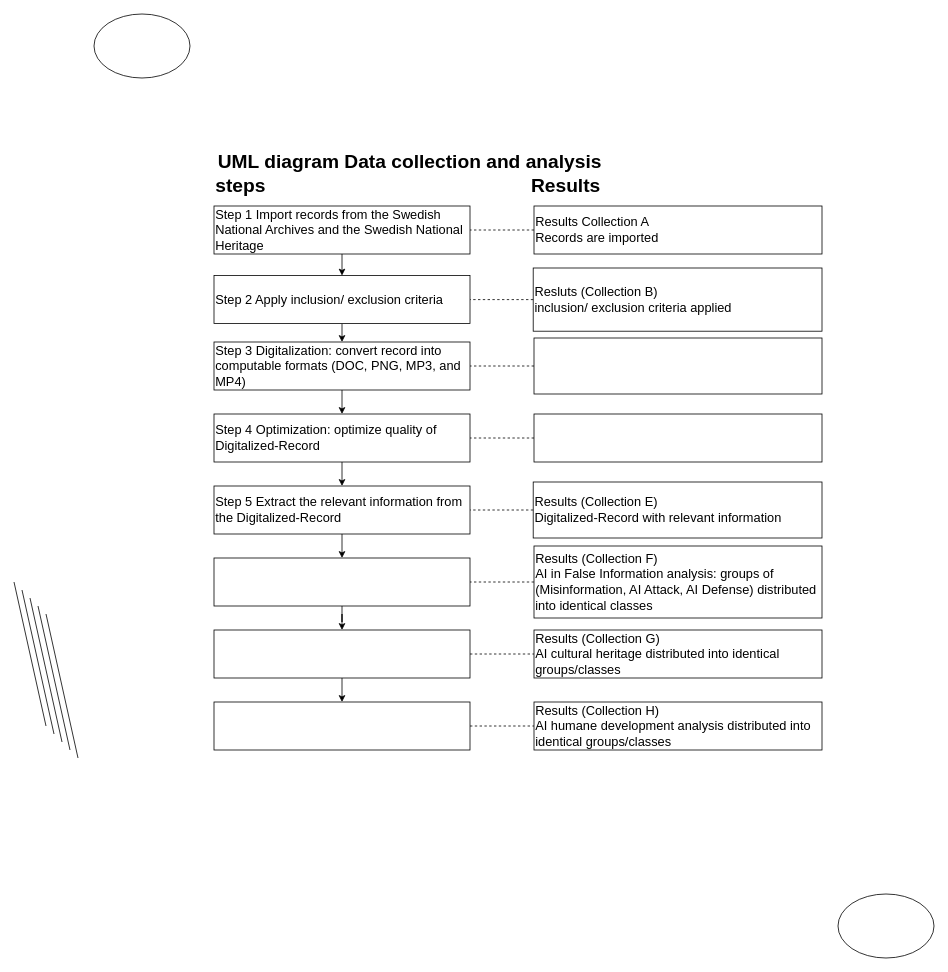
This 948x972 diagram has some shape labels left out. The shapes that lost their labels are listed below. From the top down, each one's centre as x and y in pixels, then its label:
At point (677, 365): "Results (Collection C) Digitalized-Record in (DOC, PNG, MP3, and MP4) format".
At point (677, 437): "Results (Collection D) Data quality optimized".
At point (341, 581): "Step 6 AI in False Information analysis".
At point (341, 653): "Step 7 AI Techs in cultural heritage analysis".
At point (341, 725): "Step 8 AI Techs in humane development".
